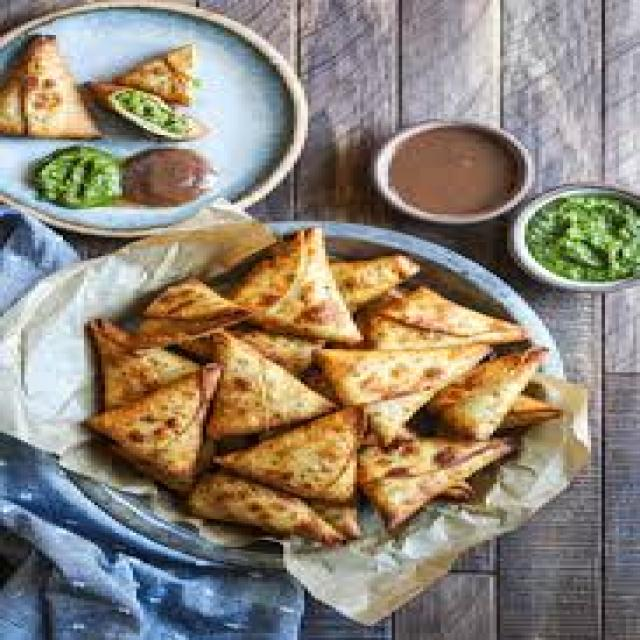SAMOSA: (91, 365, 217, 489), (227, 230, 357, 337), (206, 333, 332, 438), (360, 438, 507, 526), (220, 410, 357, 498), (322, 344, 486, 414)
